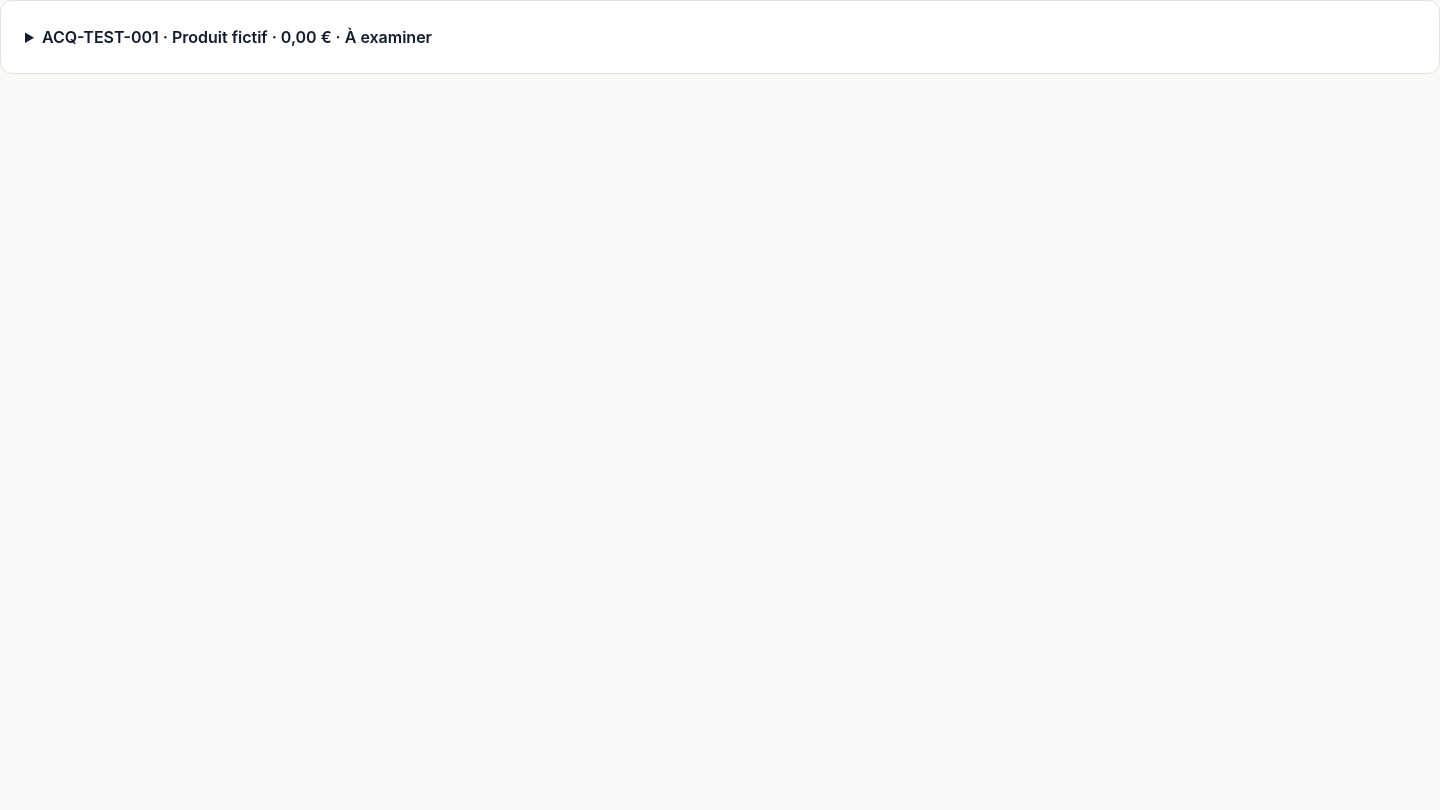
Test case: Merchant quote agreement › clears agreement after a stale-version rejection and after a newly issued version
Later steps or results of the test are not shown.
Click the heading "ACQ-TEST-001 · Produit fictif · 0,00 € · À examiner": (237, 37) [42,27,432,47]
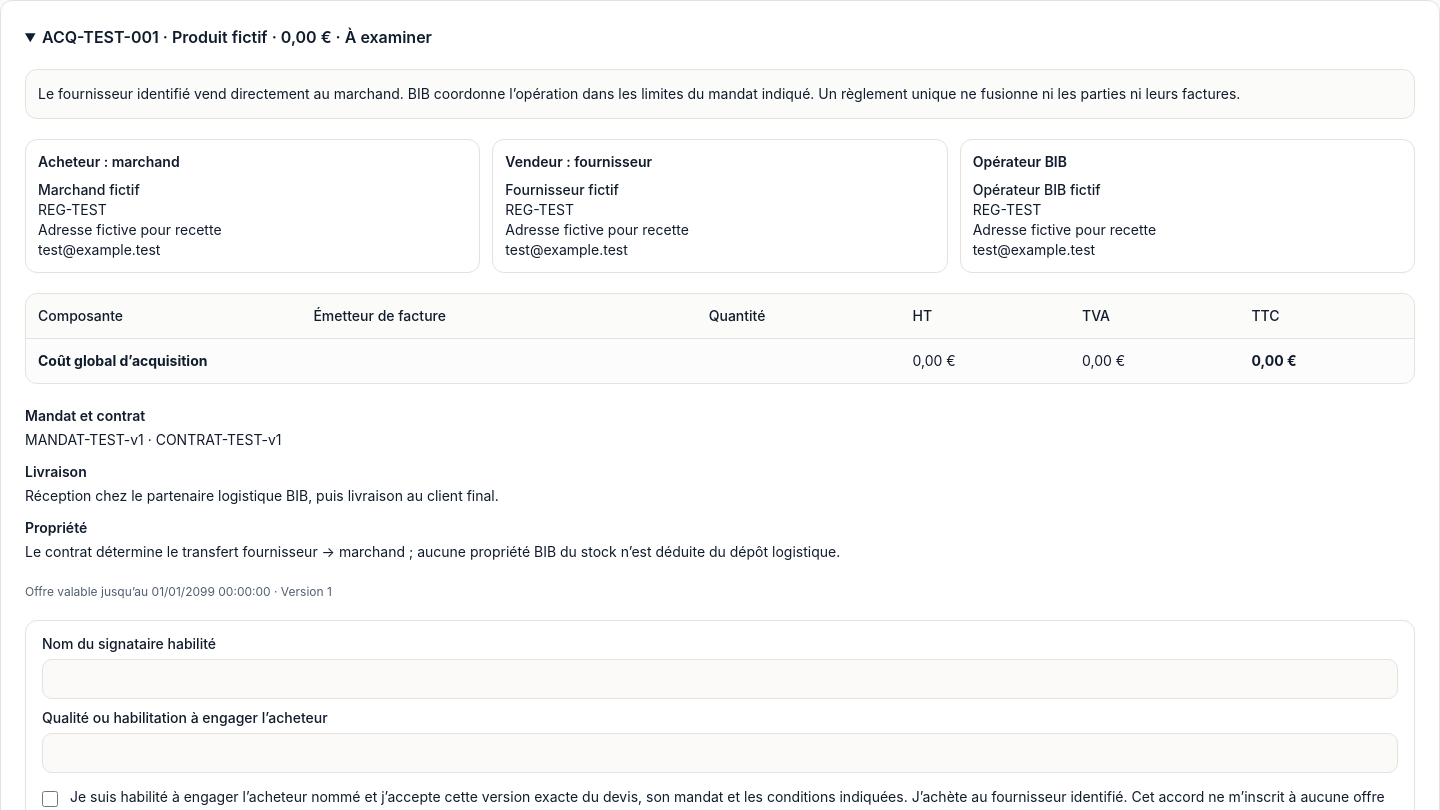
In the field labelled "Nom du signataire habilité": (720, 679) [42,659,1398,699], type "Test"
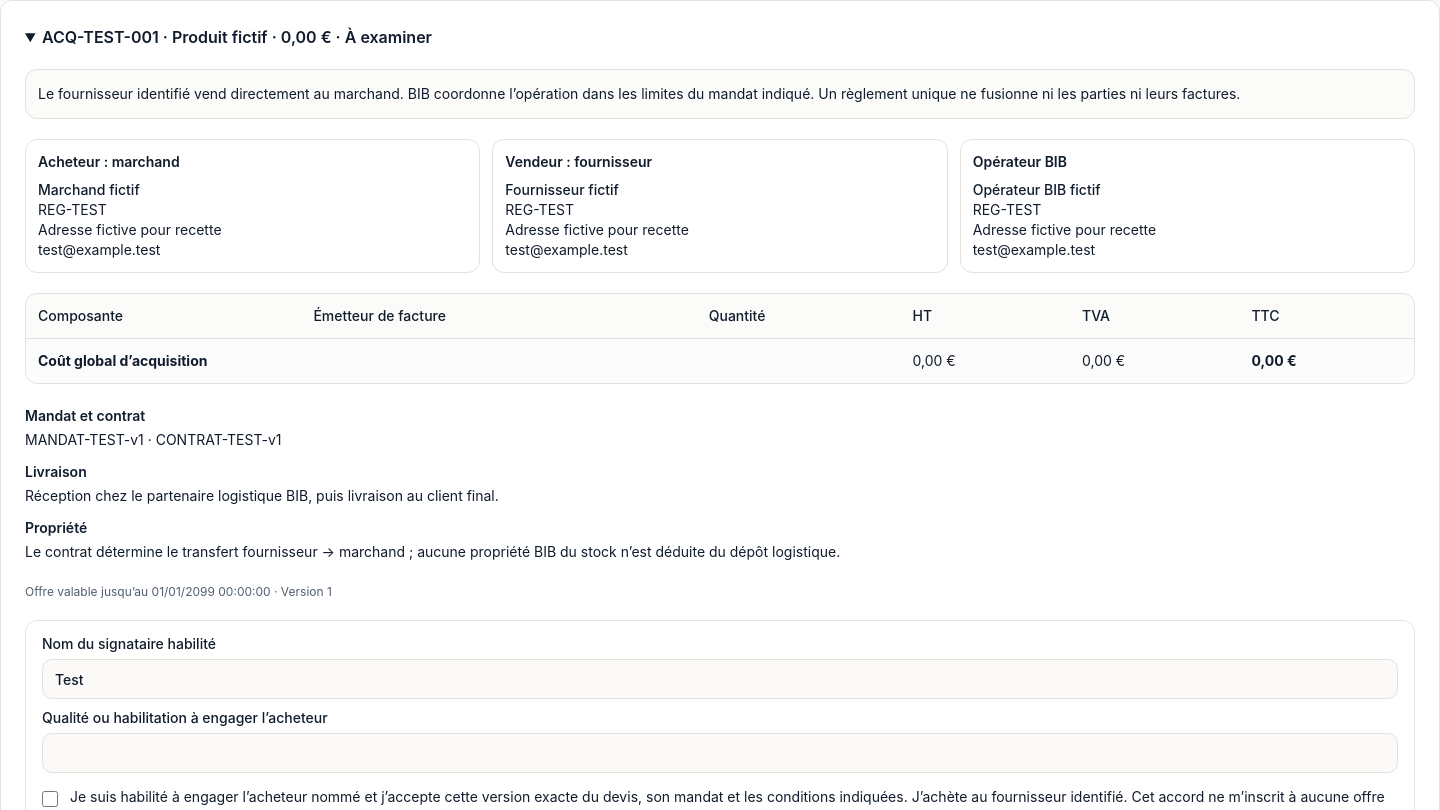
In the field labelled "Qualité ou habilitation à engager l’acheteur": (720, 753) [42,733,1398,773], type "Gérante"
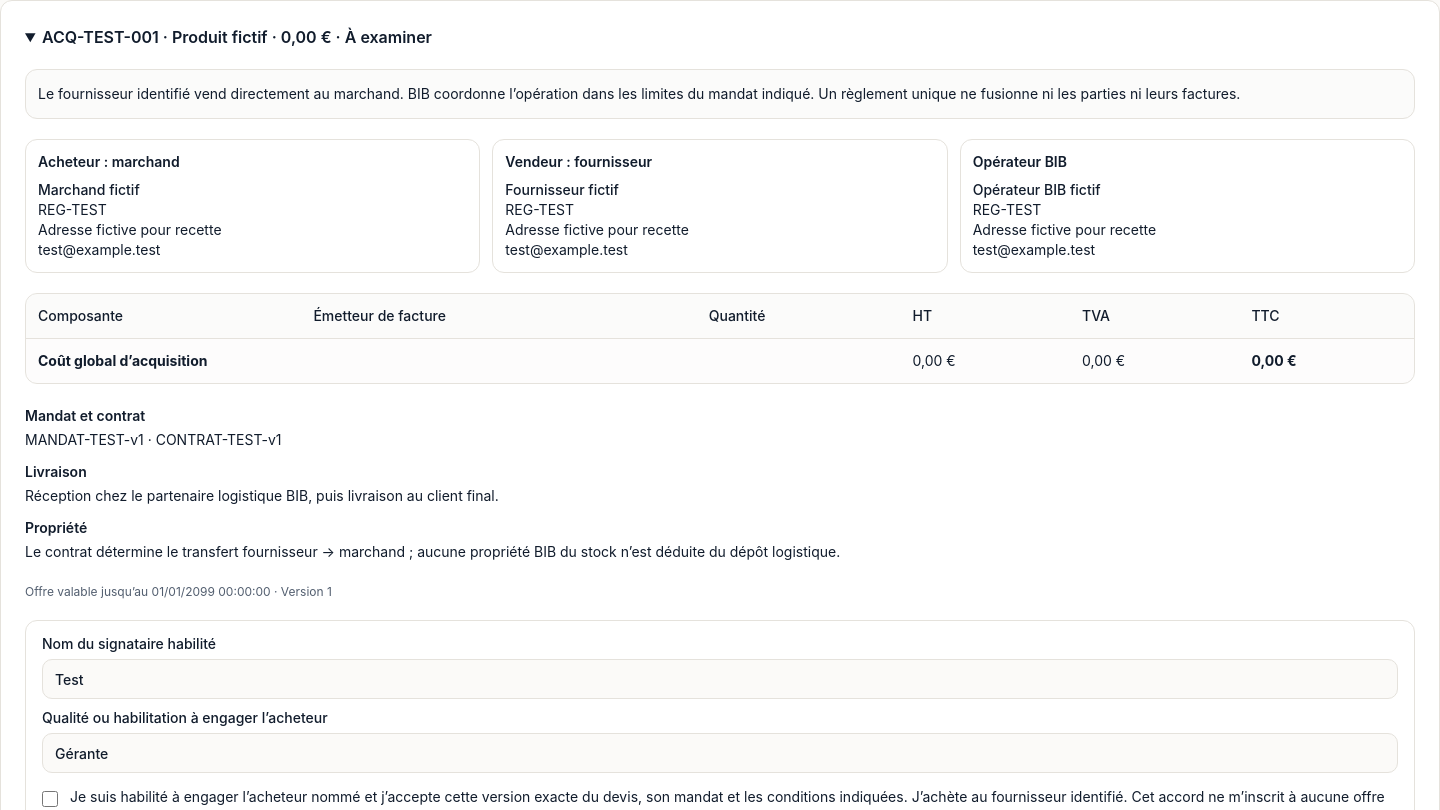
Click the checkbox: (50, 799) [42,791,58,807]
(page scrolled)
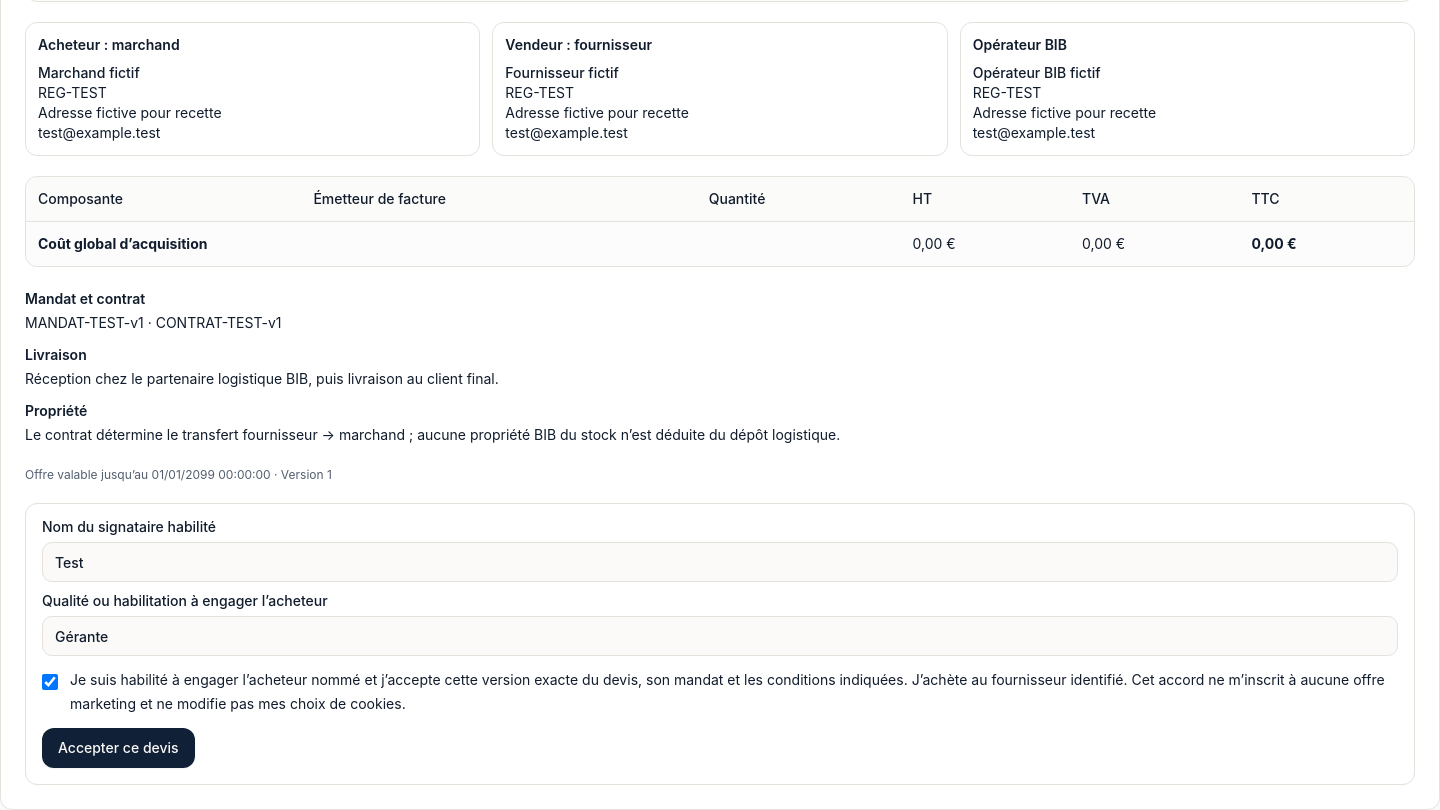
Click the button "Accepter ce devis": (118, 748) [42,728,195,768]
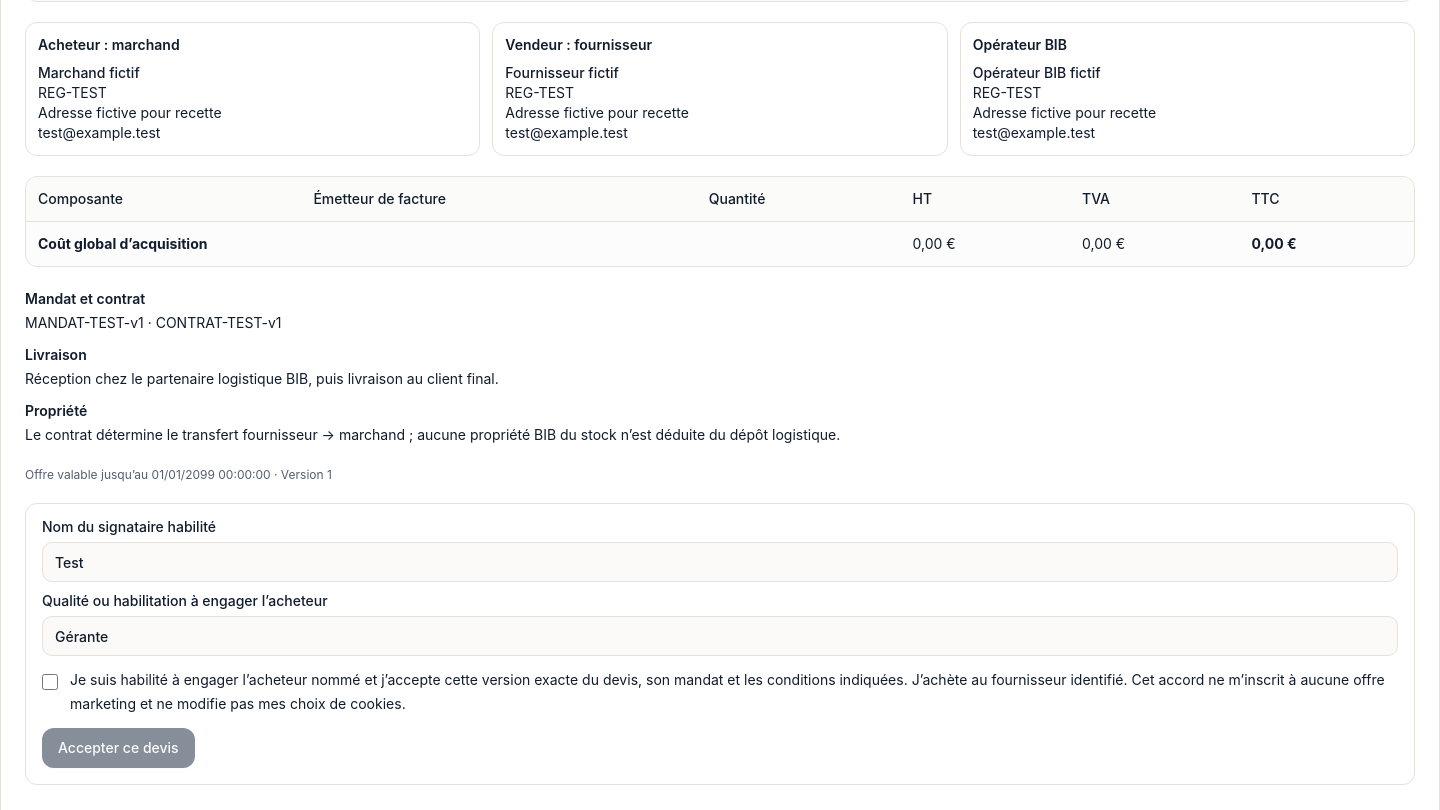
Expected: the checkbox is not checked, [42,674,58,690]
